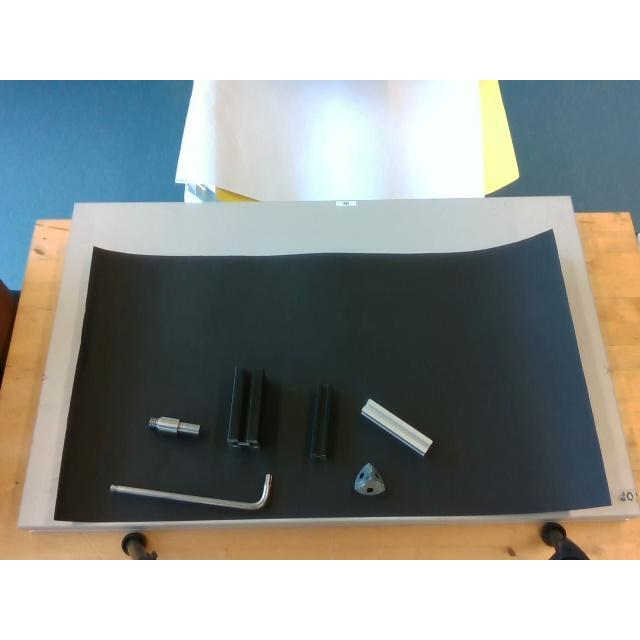AllenKey: (110, 474, 270, 510)
Axis2: (146, 417, 200, 435)
F20_20_B: (308, 384, 332, 464)
F20_20_G: (361, 398, 433, 454)
S40_40_B: (229, 369, 263, 446)
